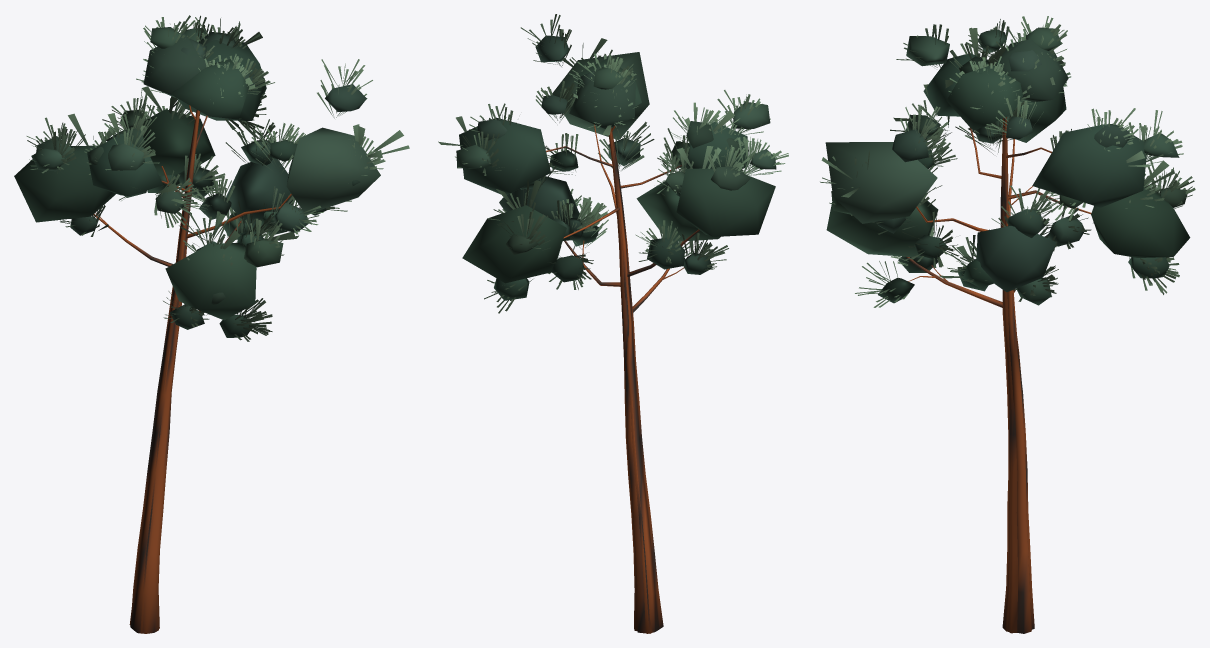
File: scots-pine.glb
3 renders of one model, left to right at view 1: azimuth 30°, elevation 25°; view 2: azimuth 150°, elevation 25°; view 3: azimuth 270°, elevation 25°, orthographic. The views are drawn at different scales.
Parts seen in each view (by area): view 1: scots-pine-lo, scots-pine; view 2: scots-pine-lo, scots-pine; view 3: scots-pine-lo, scots-pine.
Part boxes in pixels (x1,y1,x2,y2): scots-pine-lo: [14, 21, 409, 633]; scots-pine: [26, 15, 385, 633]; scots-pine-lo: [438, 38, 775, 633]; scots-pine: [455, 14, 788, 633]; scots-pine-lo: [821, 28, 1190, 633]; scots-pine: [820, 16, 1195, 633].
Size of the model in its own units: 11.92 by 21.81 by 11.97.
